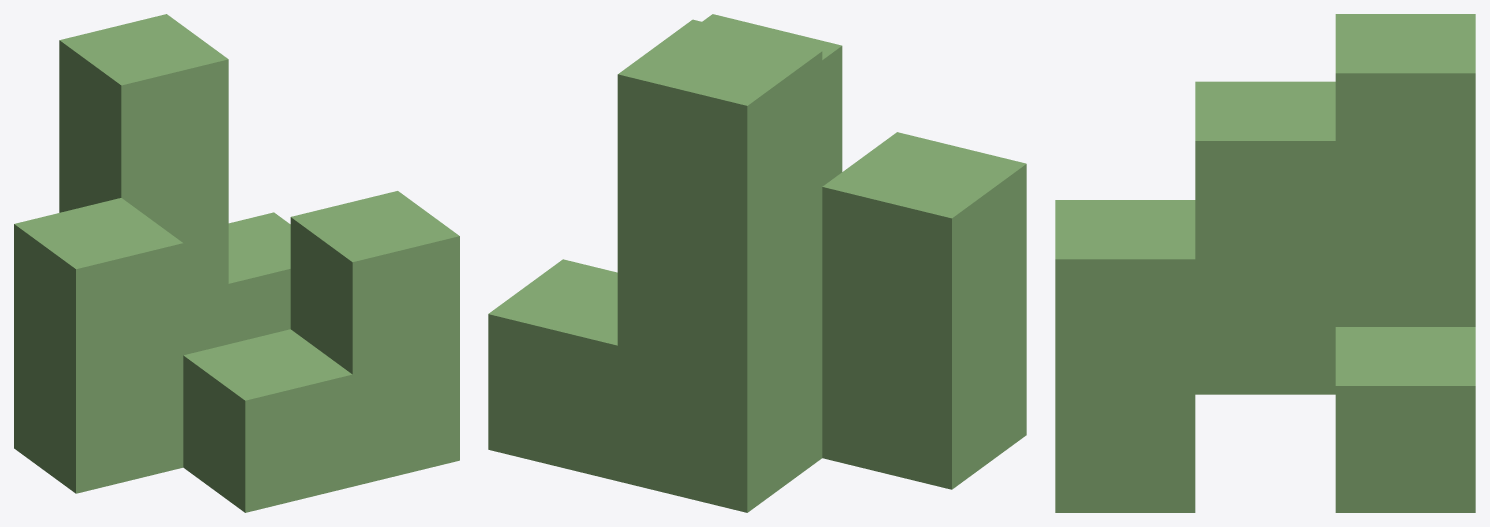
Rendered from touffe.glb.
The picture shows the model from 3 angles, left to right: view 1: azimuth 30°, elevation 25°; view 2: azimuth 150°, elevation 25°; view 3: azimuth 270°, elevation 25°; orthographic projection. The views are drawn at different scales.
Visible parts, largest first — view 1: geometry_0; view 2: geometry_0; view 3: geometry_0.
Part boxes in pixels (left/top/right/bottom): geometry_0: left=14, top=14, right=459, bottom=512; geometry_0: left=488, top=14, right=1026, bottom=512; geometry_0: left=1055, top=14, right=1475, bottom=512.
Bounding box in the file's own units: 0.375 × 0.375 × 0.375.
